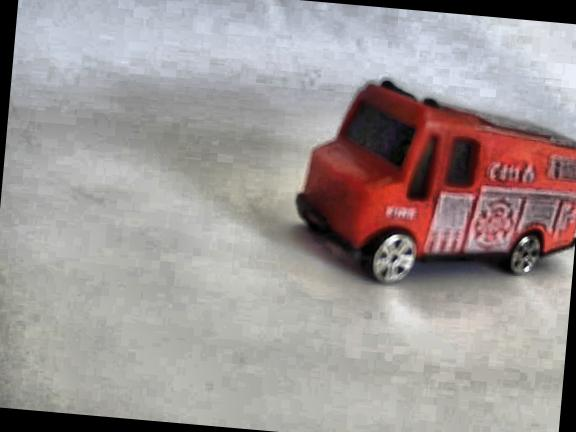fire_truck: (289, 72, 576, 298), (529, 142, 576, 246)
